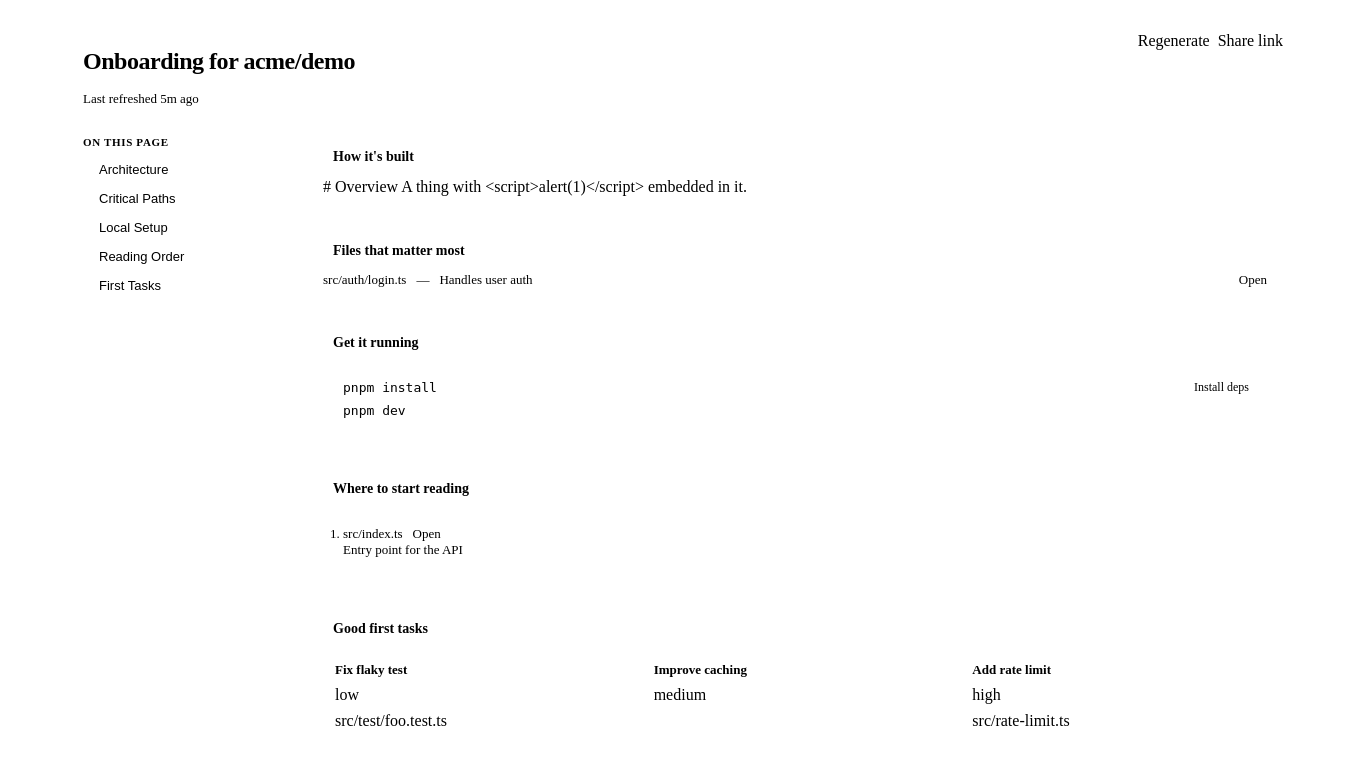
Test: OnboardingTourPage › each card collapses/expands independently
expect the text "pnpm install" is shown: met, box [343,380,437,395]
expect the text "Fix flaky test" is shown: met, box [335,662,407,677]
Note: Collapse only the "Get it running" (local_setup) card.
Click the button "Get it running": coordinates (376, 343) [333,335,419,350]
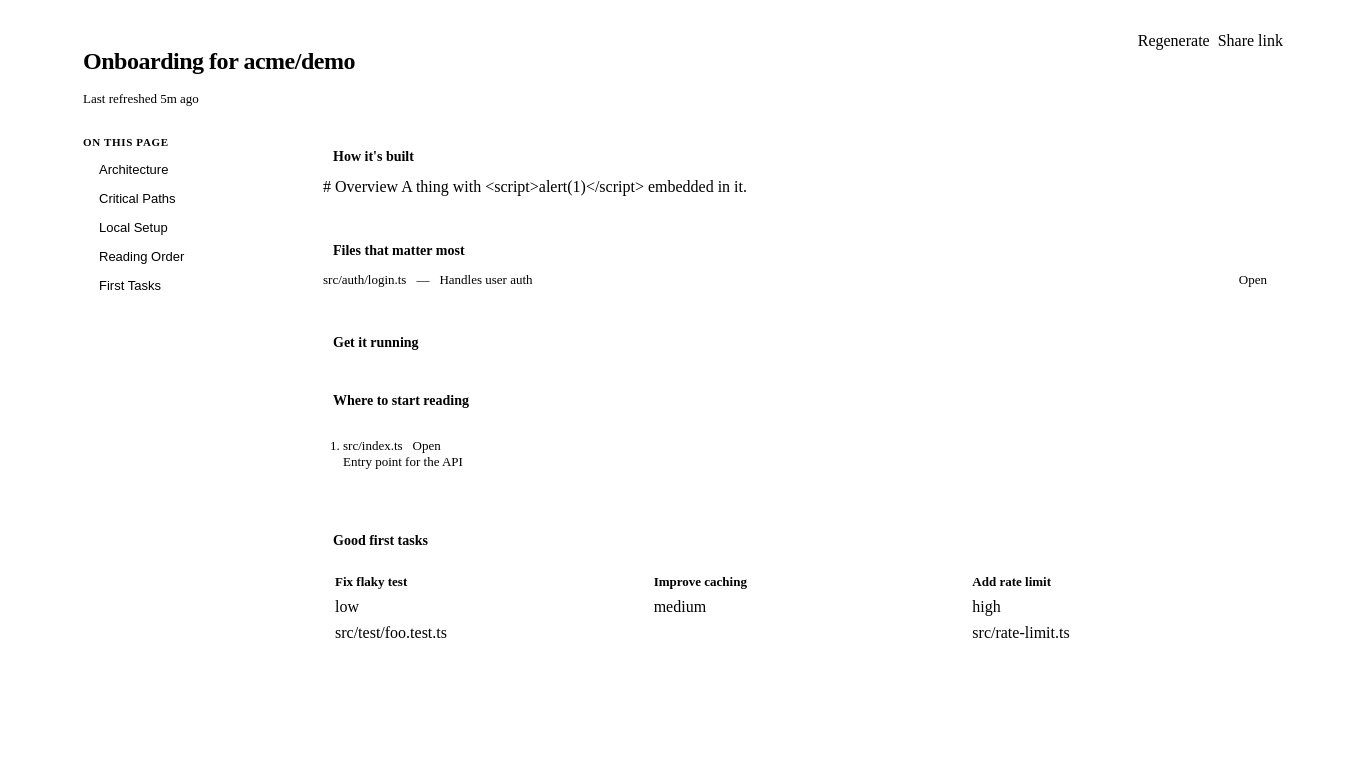
expect the text "Fix flaky test" is shown: met, box [335,574,407,589]
expect the text "pnpm install" is gone: met
